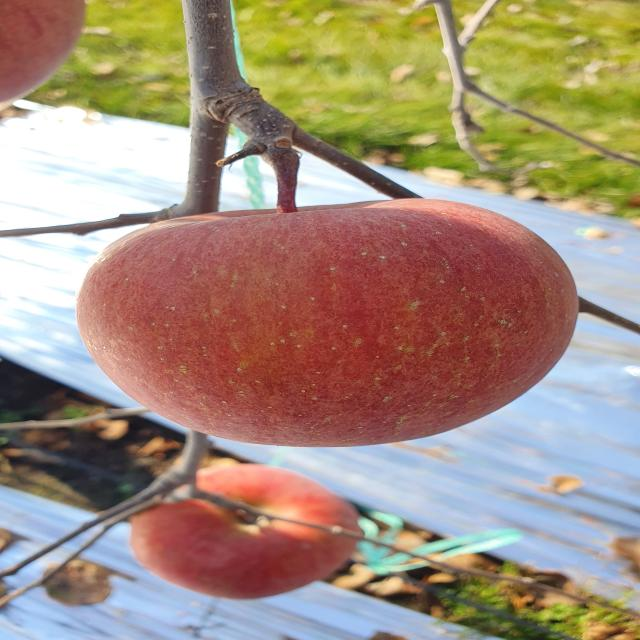fresh: (67, 190, 593, 458)
